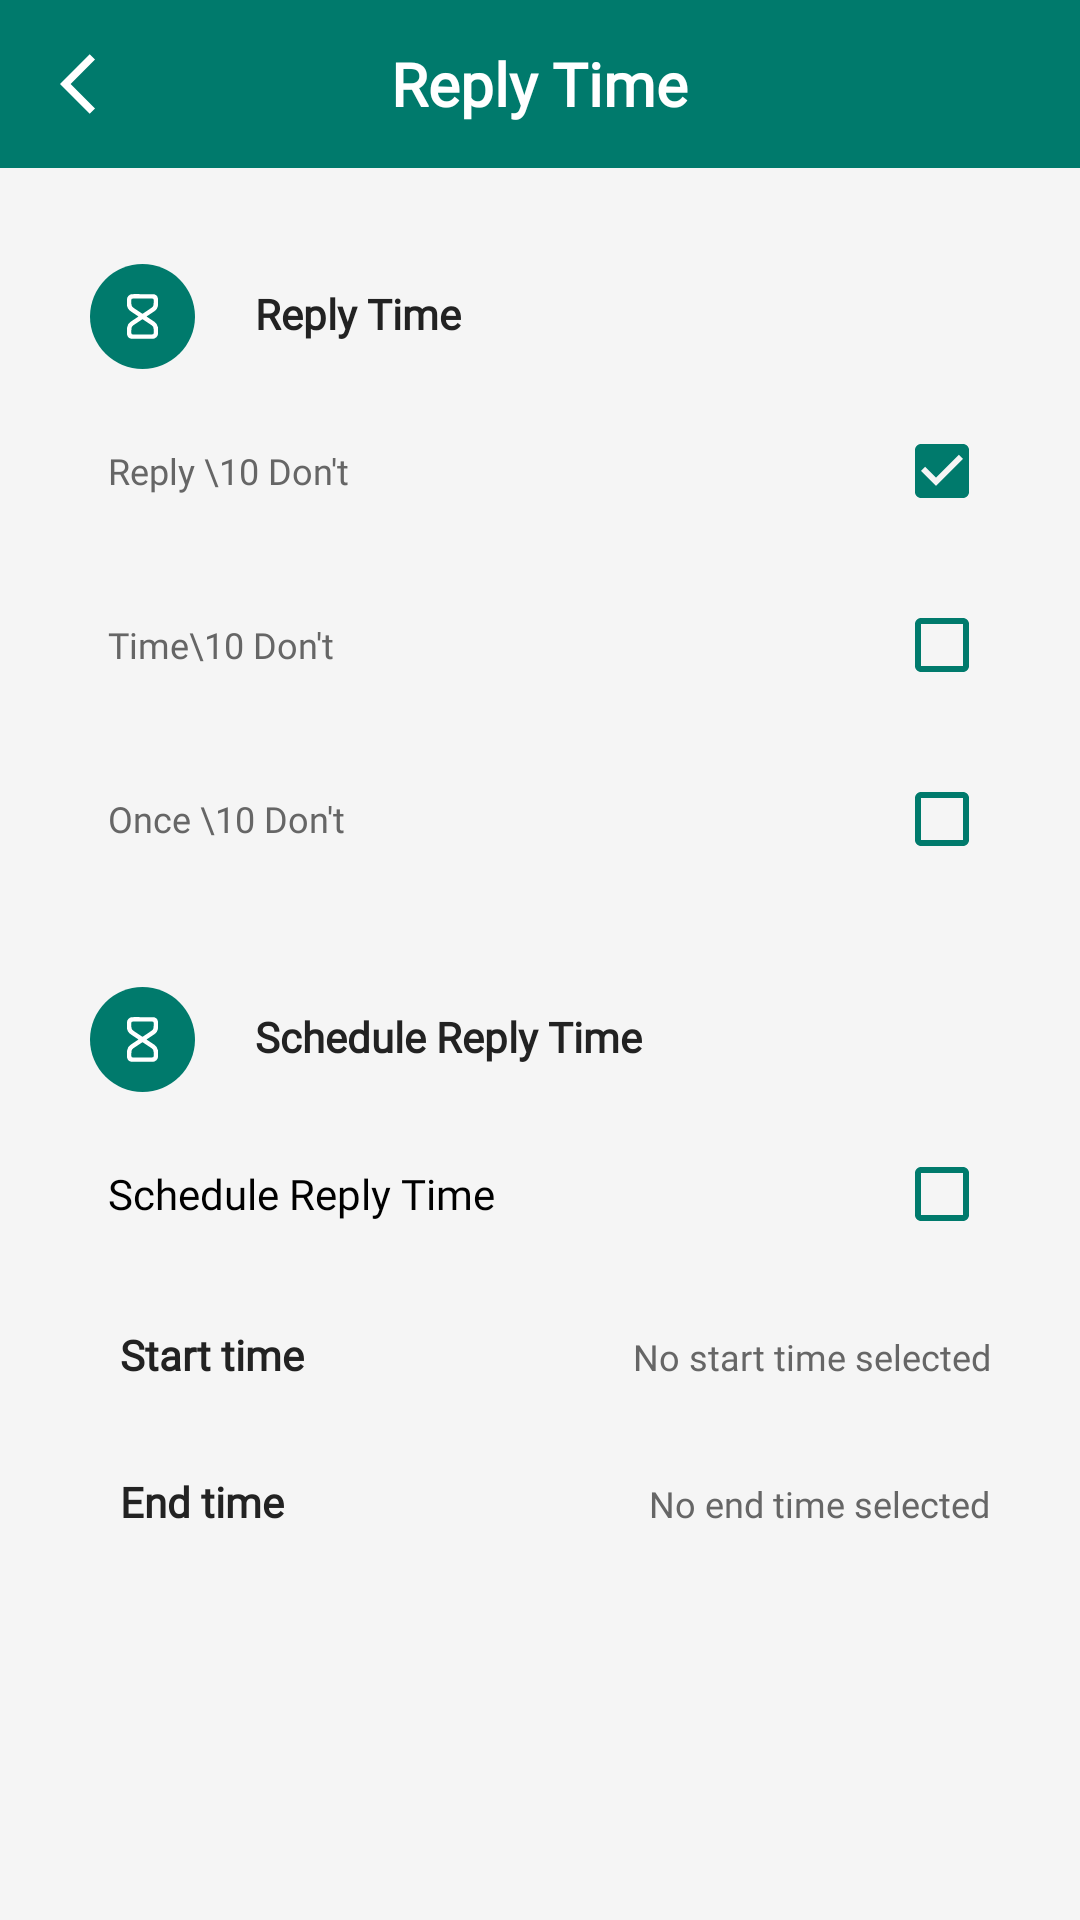

Screen size 1080px x 1920px. Icon name, then its center in pixels as (x,y):
arrow back: (77,84)
